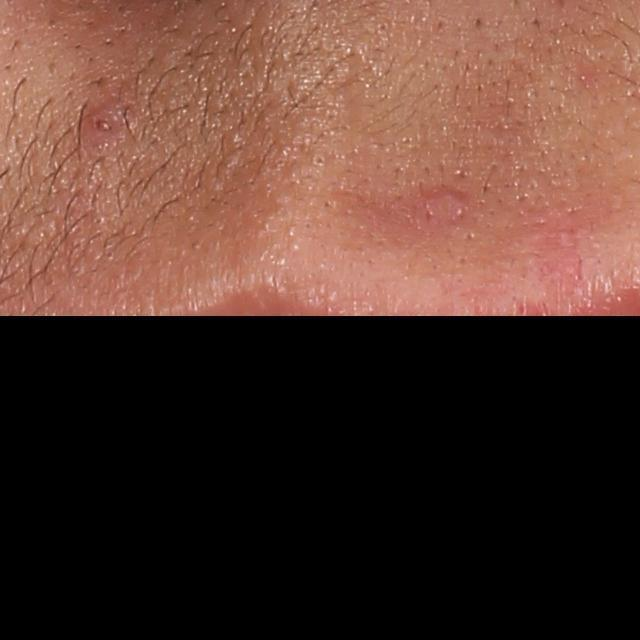papule: (429, 186, 469, 215)
